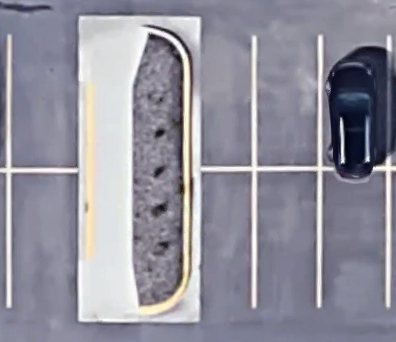Occupied: (321, 35, 389, 169)
Vacant: (8, 35, 88, 171), (10, 170, 88, 309), (319, 169, 388, 307), (254, 168, 319, 307), (254, 35, 321, 169), (197, 169, 254, 307), (197, 35, 255, 168)
